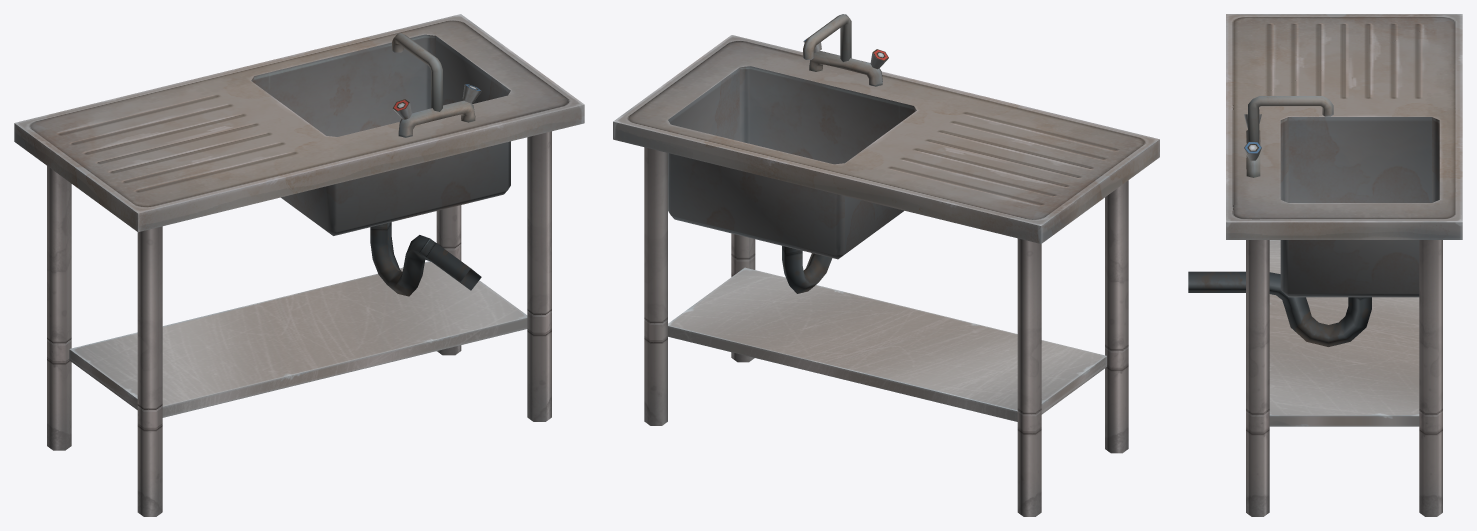
The model's file is KTB0110015.fbx.
3 views of the same model, side by side, from view 1: azimuth 30°, elevation 25°; view 2: azimuth 150°, elevation 25°; view 3: azimuth 270°, elevation 25° (orthographic). The views are drawn at different scales.
Parts seen in each view (by area): view 1: smKTB0110015; view 2: smKTB0110015; view 3: smKTB0110015.
Boxes of the visible parts, left/top/right/bottom form: smKTB0110015: left=14, top=14, right=584, bottom=516; smKTB0110015: left=613, top=14, right=1159, bottom=516; smKTB0110015: left=1188, top=14, right=1462, bottom=516.
Size of the model in its own units: 137 by 113 by 76.21.
Materials: 1 (1 with a texture image).
